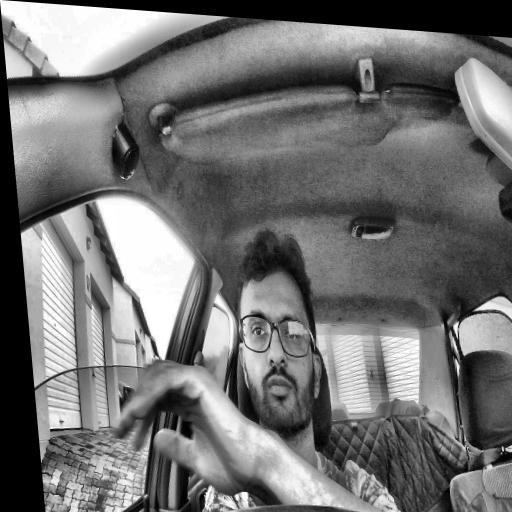awake: (228, 226, 328, 443)
